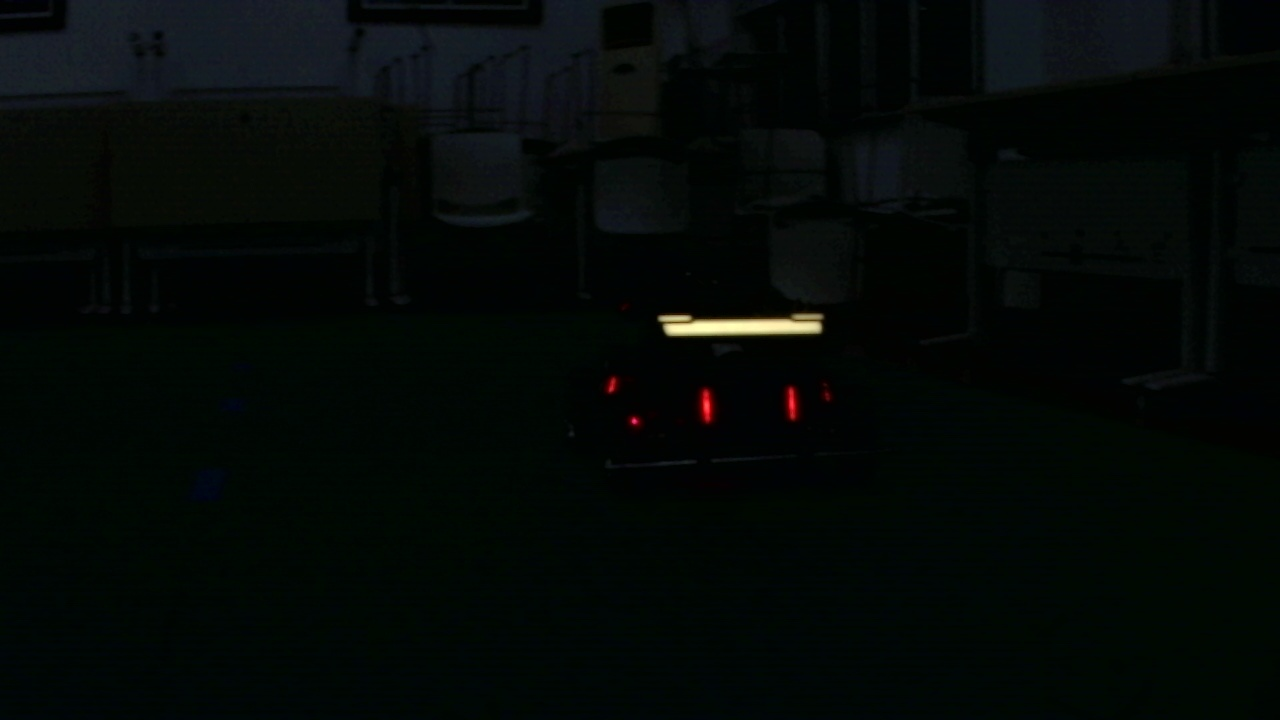lamp: (781, 383, 803, 421), (697, 384, 717, 425)
pair1: (701, 386, 800, 420)
